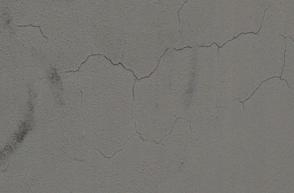fissura: (56, 32, 294, 167)
